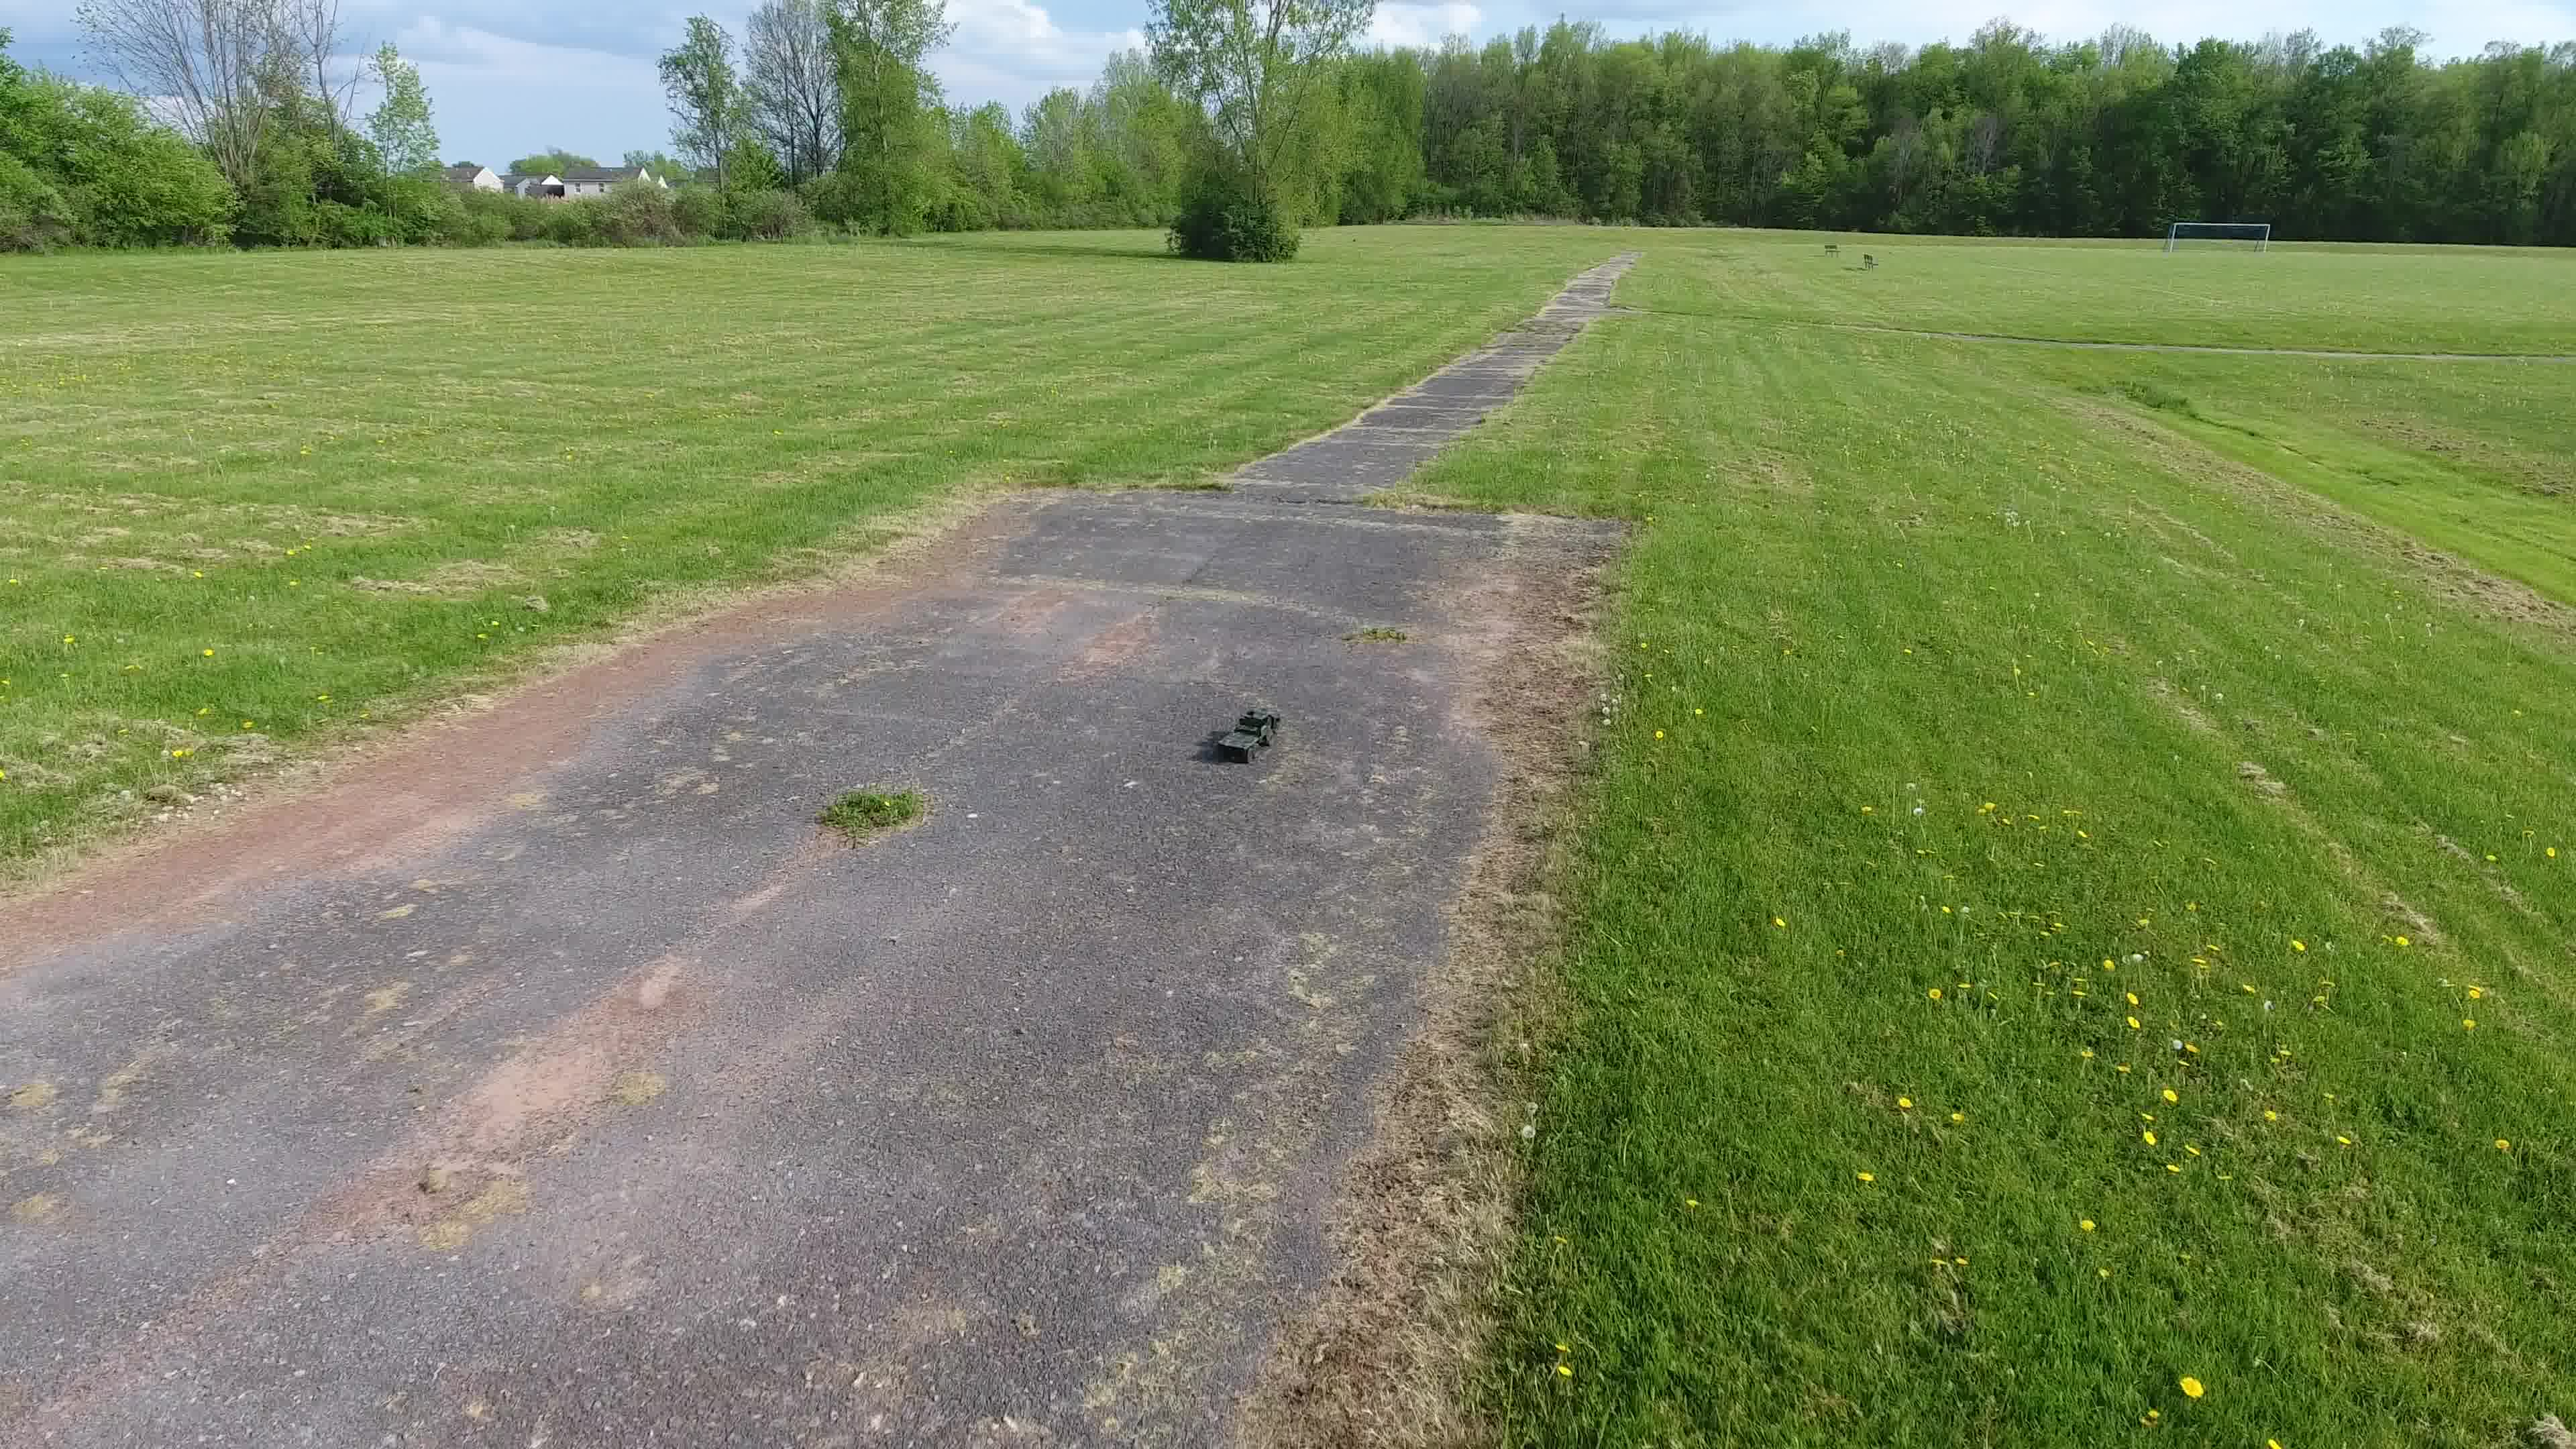transporter9_camo: (1208, 706, 1283, 766)
